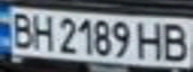1: (75, 16, 93, 55)
2: (54, 15, 78, 54)
8: (90, 16, 115, 56)
9: (109, 18, 136, 58)
B: (157, 20, 193, 63), (6, 9, 36, 50)
H: (136, 18, 169, 61), (27, 11, 57, 52)
